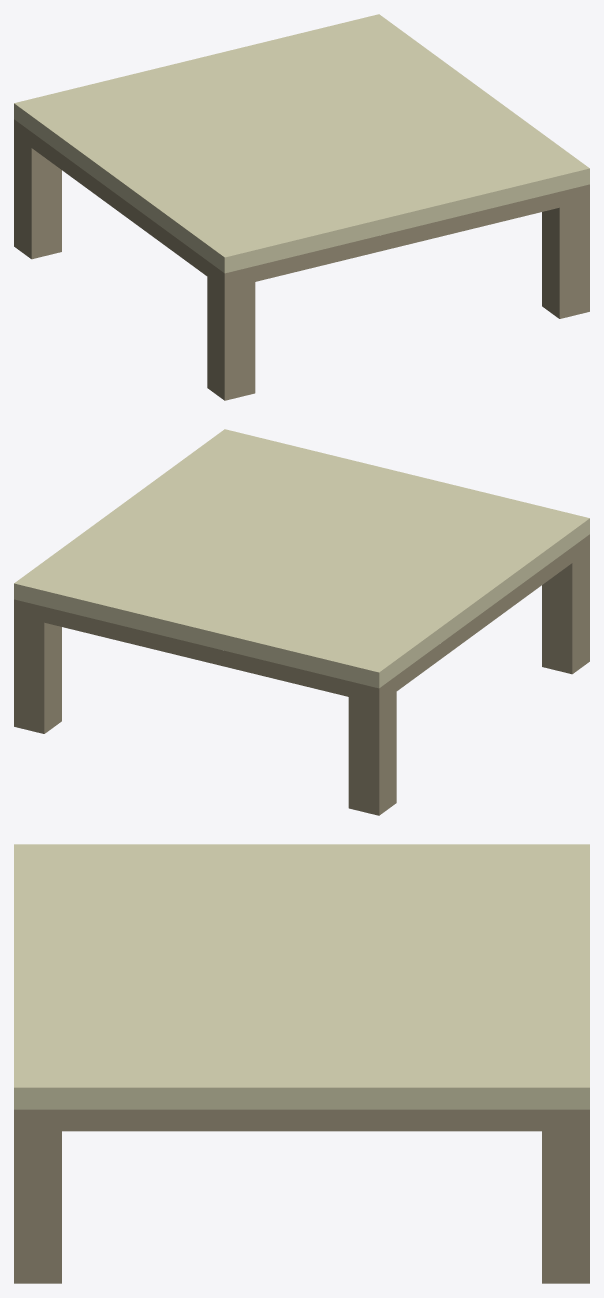
The model's file is mesa_comedor_pequena_pino_01.glb.
The picture shows the model from 3 angles, top to bottom: view 1: azimuth 30°, elevation 25°; view 2: azimuth 150°, elevation 25°; view 3: azimuth 270°, elevation 25°; orthographic projection. The views are drawn at different scales.
Parts seen in each view (by area): view 1: mesa_comedor_pequena_pino; view 2: mesa_comedor_pequena_pino; view 3: mesa_comedor_pequena_pino.
Boxes of the visible parts, x1,y1,x2,y2 form: mesa_comedor_pequena_pino: [14, 14, 589, 400]; mesa_comedor_pequena_pino: [14, 429, 589, 815]; mesa_comedor_pequena_pino: [14, 844, 589, 1283].
Size of the model in its own units: 2 by 0.75 by 2.
